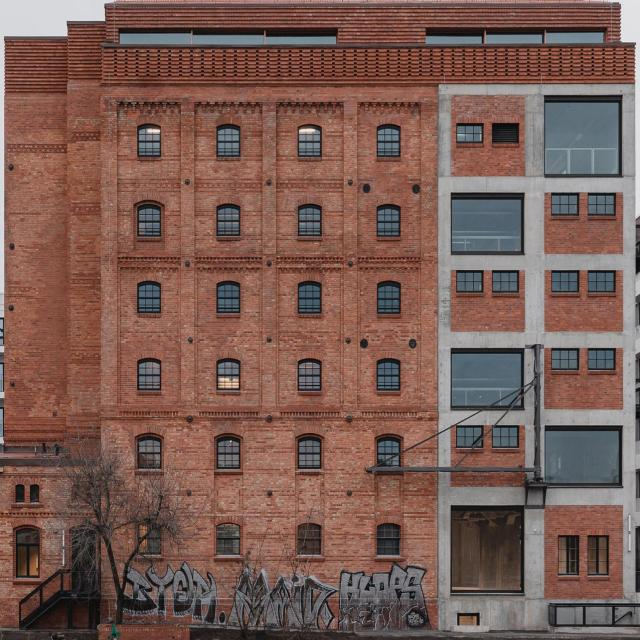windows: (452, 506, 520, 590), (545, 99, 620, 172), (546, 427, 620, 484), (451, 195, 522, 253), (453, 350, 524, 407), (119, 30, 336, 45), (426, 30, 604, 46), (16, 529, 37, 574), (558, 536, 580, 575), (588, 535, 609, 574), (218, 205, 242, 237), (298, 279, 322, 311), (138, 123, 162, 154), (218, 361, 242, 392), (298, 435, 322, 466), (218, 124, 241, 156), (299, 123, 322, 155), (139, 203, 162, 235), (376, 203, 399, 235), (218, 280, 241, 312), (138, 434, 161, 466), (299, 523, 322, 555), (218, 524, 241, 556), (376, 123, 399, 154), (138, 279, 161, 310), (139, 359, 162, 390), (376, 359, 399, 390), (218, 436, 241, 467), (376, 523, 399, 554), (138, 523, 161, 554), (376, 434, 398, 466), (300, 204, 322, 235), (376, 279, 398, 310), (300, 360, 322, 391), (456, 124, 483, 142), (552, 274, 579, 292), (551, 350, 578, 368), (551, 195, 577, 213), (589, 194, 615, 212), (459, 427, 485, 445), (457, 273, 483, 291), (495, 272, 521, 290), (587, 349, 613, 367), (494, 427, 520, 445), (589, 274, 615, 292)
